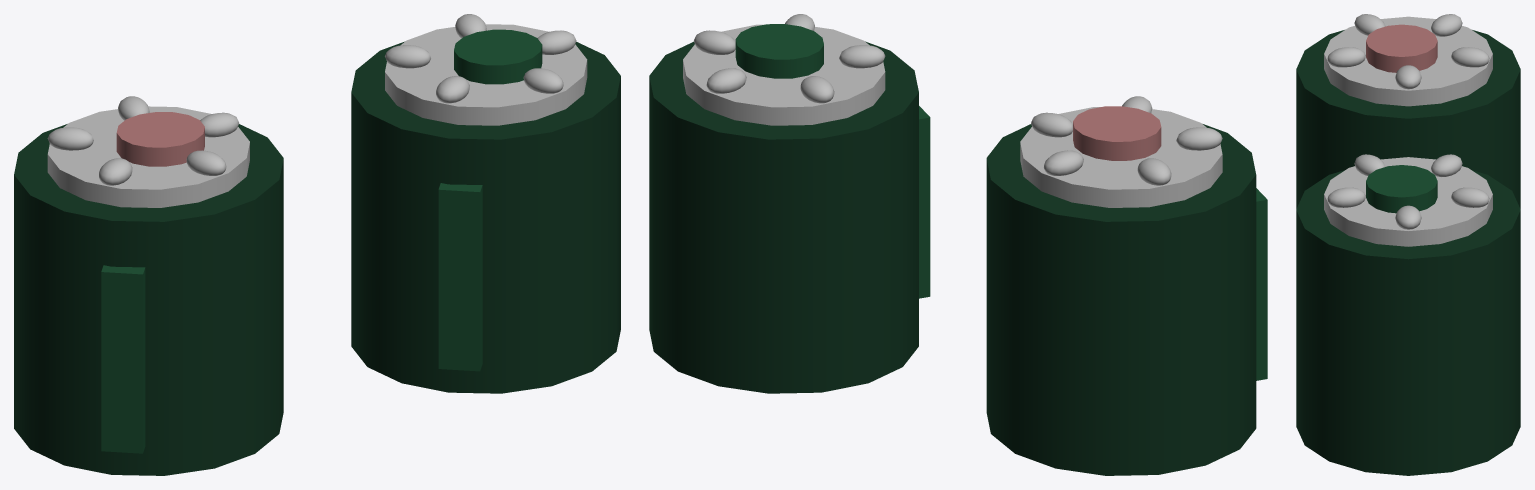
Rendered from CMU3DRMCFoodMeatFishSushiExtraCloud.glb.
3 renders of one model, left to right at view 1: azimuth 30°, elevation 25°; view 2: azimuth 150°, elevation 25°; view 3: azimuth 270°, elevation 25°, orthographic. The views are drawn at different scales.
Visible parts, largest first — view 1: fish maki 1 dark nori wrapper, fish maki 2 dark nori wrapper, fish maki 1 exposed rice cross-section, fish maki 2 exposed rice cross-section, fish maki 1 wrapper overlap seam, fish maki 2 wrapper overlap seam, fish maki 2 central filling, fish maki 1 central filling, fish maki 1 separate rice grain 3, fish maki 2 separate rice grain 3, fish maki 2 separate rice grain 5, fish maki 1 separate rice grain 5 (+4 smaller); view 2: fish maki 1 dark nori wrapper, fish maki 2 dark nori wrapper, fish maki 2 exposed rice cross-section, fish maki 1 exposed rice cross-section, fish maki 1 central filling, fish maki 2 central filling, fish maki 1 wrapper overlap seam, fish maki 2 wrapper overlap seam, fish maki 1 separate rice grain 4, fish maki 2 separate rice grain 4, fish maki 2 separate rice grain 1, fish maki 1 separate rice grain 1 (+4 smaller); view 3: fish maki 2 dark nori wrapper, fish maki 1 dark nori wrapper, fish maki 2 exposed rice cross-section, fish maki 1 exposed rice cross-section, fish maki 1 central filling, fish maki 2 central filling, fish maki 1 separate rice grain 2, fish maki 1 separate rice grain 5, fish maki 2 separate rice grain 2, fish maki 2 separate rice grain 5, fish maki 1 separate rice grain 3, fish maki 2 separate rice grain 3 (+4 smaller).
Boxes of the visible parts, left/top/right/bottom form: fish maki 1 dark nori wrapper: left=14, top=124, right=283, bottom=475; fish maki 2 dark nori wrapper: left=351, top=41, right=620, bottom=393; fish maki 1 exposed rice cross-section: left=47, top=106, right=249, bottom=207; fish maki 2 exposed rice cross-section: left=385, top=24, right=587, bottom=125; fish maki 1 wrapper overlap seam: left=101, top=265, right=145, bottom=453; fish maki 2 wrapper overlap seam: left=438, top=183, right=482, bottom=371; fish maki 2 central filling: left=454, top=29, right=542, bottom=84; fish maki 1 central filling: left=116, top=112, right=204, bottom=166; fish maki 1 separate rice grain 3: left=47, top=127, right=93, bottom=150; fish maki 2 separate rice grain 3: left=385, top=45, right=430, bottom=68; fish maki 2 separate rice grain 5: left=523, top=68, right=563, bottom=93; fish maki 1 separate rice grain 5: left=186, top=150, right=226, bottom=175; fish maki 1 dark nori wrapper: left=986, top=124, right=1256, bottom=475; fish maki 2 dark nori wrapper: left=649, top=41, right=918, bottom=393; fish maki 2 exposed rice cross-section: left=683, top=24, right=885, bottom=125; fish maki 1 exposed rice cross-section: left=1020, top=107, right=1222, bottom=207; fish maki 1 central filling: left=1073, top=106, right=1161, bottom=160; fish maki 2 central filling: left=735, top=24, right=823, bottom=78; fish maki 1 wrapper overlap seam: left=1256, top=188, right=1267, bottom=380; fish maki 2 wrapper overlap seam: left=919, top=106, right=930, bottom=298; fish maki 1 separate rice grain 4: left=1176, top=127, right=1222, bottom=150; fish maki 2 separate rice grain 4: left=839, top=45, right=885, bottom=68; fish maki 2 separate rice grain 1: left=694, top=30, right=735, bottom=54; fish maki 1 separate rice grain 1: left=1031, top=112, right=1072, bottom=137; fish maki 2 dark nori wrapper: left=1296, top=170, right=1520, bottom=475; fish maki 1 dark nori wrapper: left=1296, top=30, right=1520, bottom=208; fish maki 2 exposed rice cross-section: left=1324, top=157, right=1492, bottom=246; fish maki 1 exposed rice cross-section: left=1324, top=16, right=1492, bottom=106; fish maki 1 central filling: left=1366, top=24, right=1437, bottom=72; fish maki 2 central filling: left=1366, top=165, right=1437, bottom=213; fish maki 1 separate rice grain 2: left=1451, top=47, right=1489, bottom=67; fish maki 1 separate rice grain 5: left=1327, top=47, right=1365, bottom=67; fish maki 2 separate rice grain 2: left=1451, top=187, right=1489, bottom=207; fish maki 2 separate rice grain 5: left=1327, top=187, right=1365, bottom=207; fish maki 1 separate rice grain 3: left=1431, top=14, right=1462, bottom=36; fish maki 2 separate rice grain 3: left=1431, top=154, right=1462, bottom=176.
Size of the model in its own units: 0.426 by 0.2065 by 0.169.
